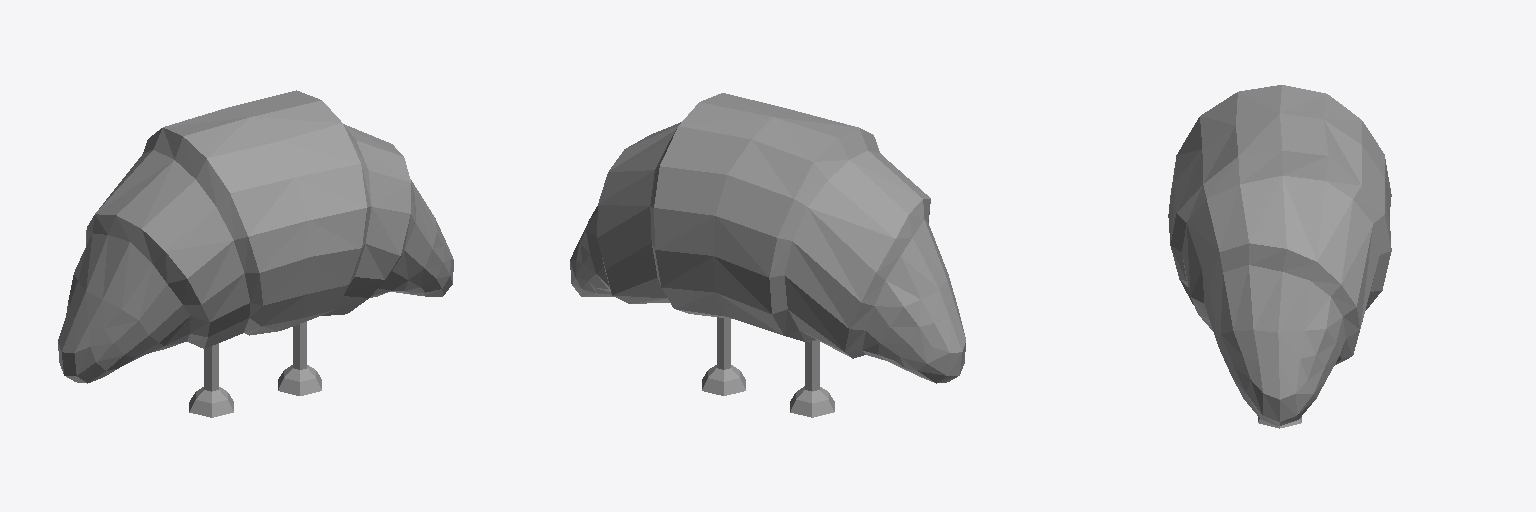
The model's file is croissant.obj.
3 views of the same model, side by side, from view 1: azimuth 30°, elevation 25°; view 2: azimuth 150°, elevation 25°; view 3: azimuth 270°, elevation 25° (orthographic).
Parts seen in each view (by area): view 1: Box011_Mesh; view 2: Box011_Mesh; view 3: Box011_Mesh.
Boxes of the visible parts, box(x1,y1,x2,y2) form: Box011_Mesh: box(58, 90, 453, 417); Box011_Mesh: box(570, 93, 965, 417); Box011_Mesh: box(1168, 85, 1391, 428).
Size of the model in its own units: 4.29 by 2.96 by 2.13.